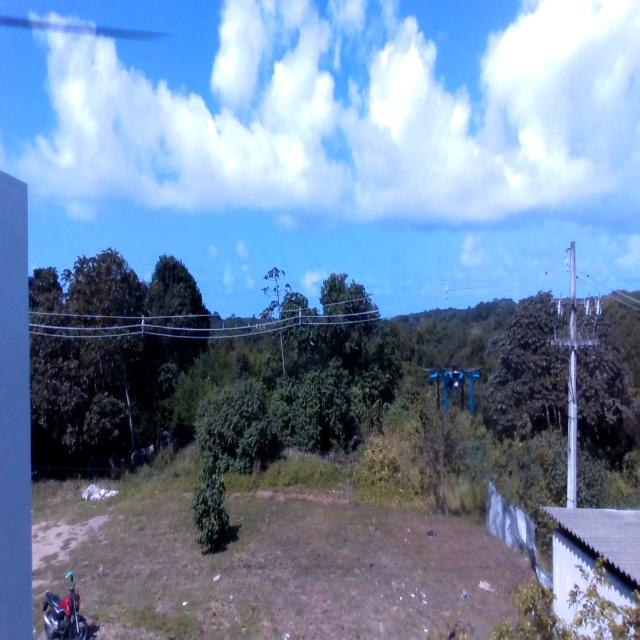-uav-: (419, 348, 484, 425)
